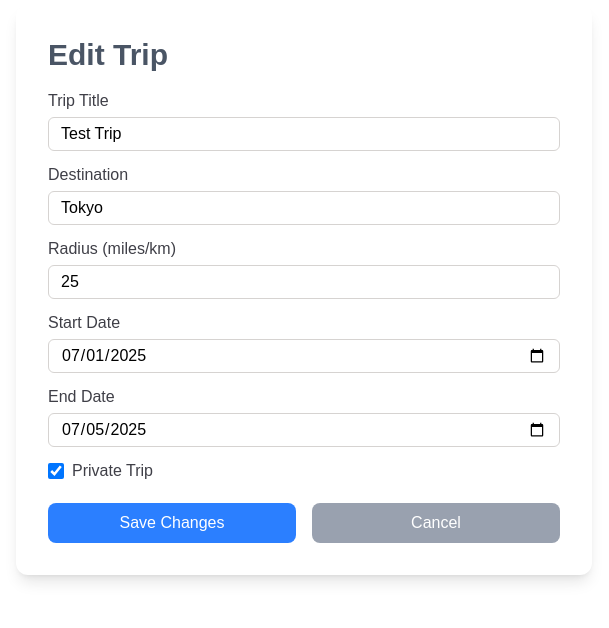
Test: EditTripForm › shows error msg if submission fail
Click the button "Save Changes" at [172, 523], box [48,503,296,543]
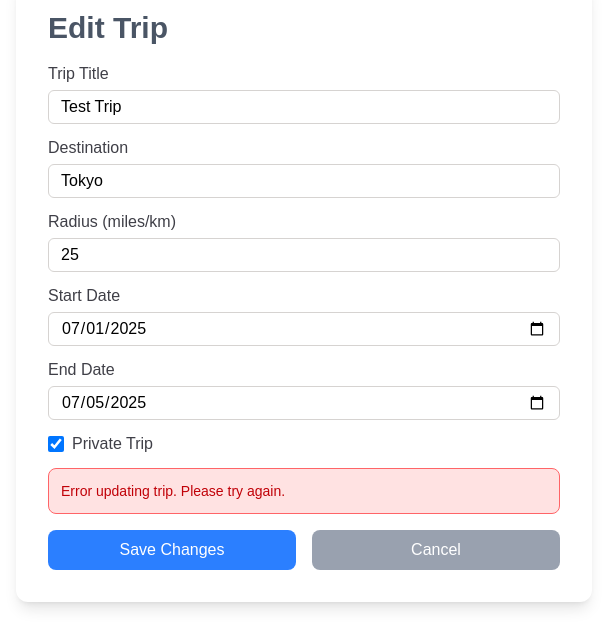
expect the text "Error updating trip. Please try again." is shown: met, box [61,483,285,499]
